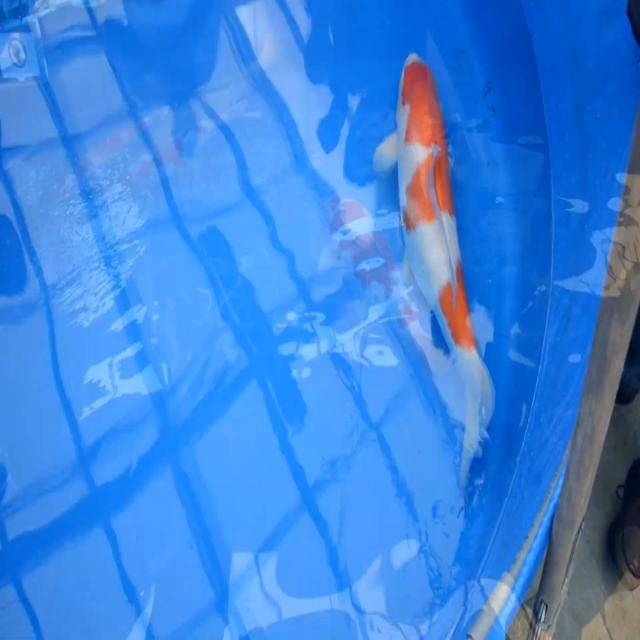Kohaku: (394, 51, 496, 489)
